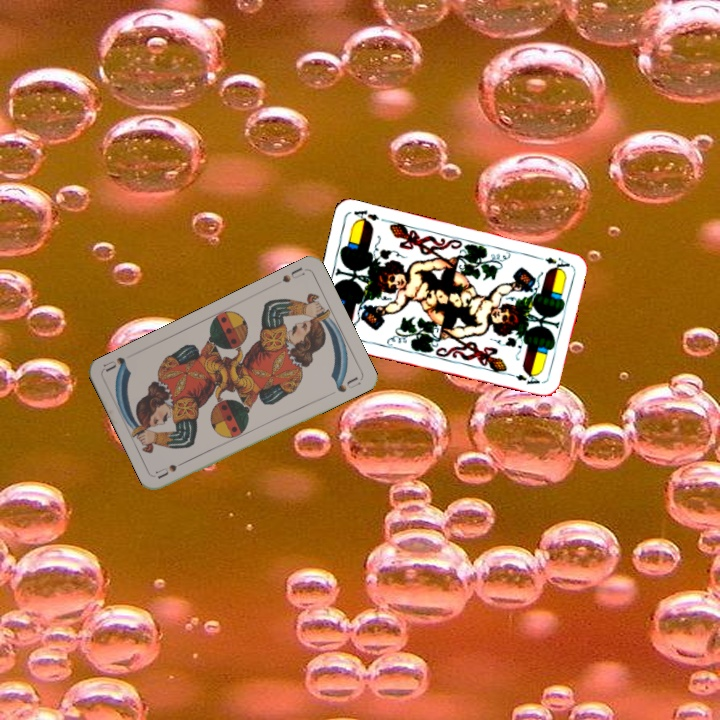EA: (532, 253, 573, 272)
SU: (152, 455, 192, 481), (270, 263, 307, 289)
